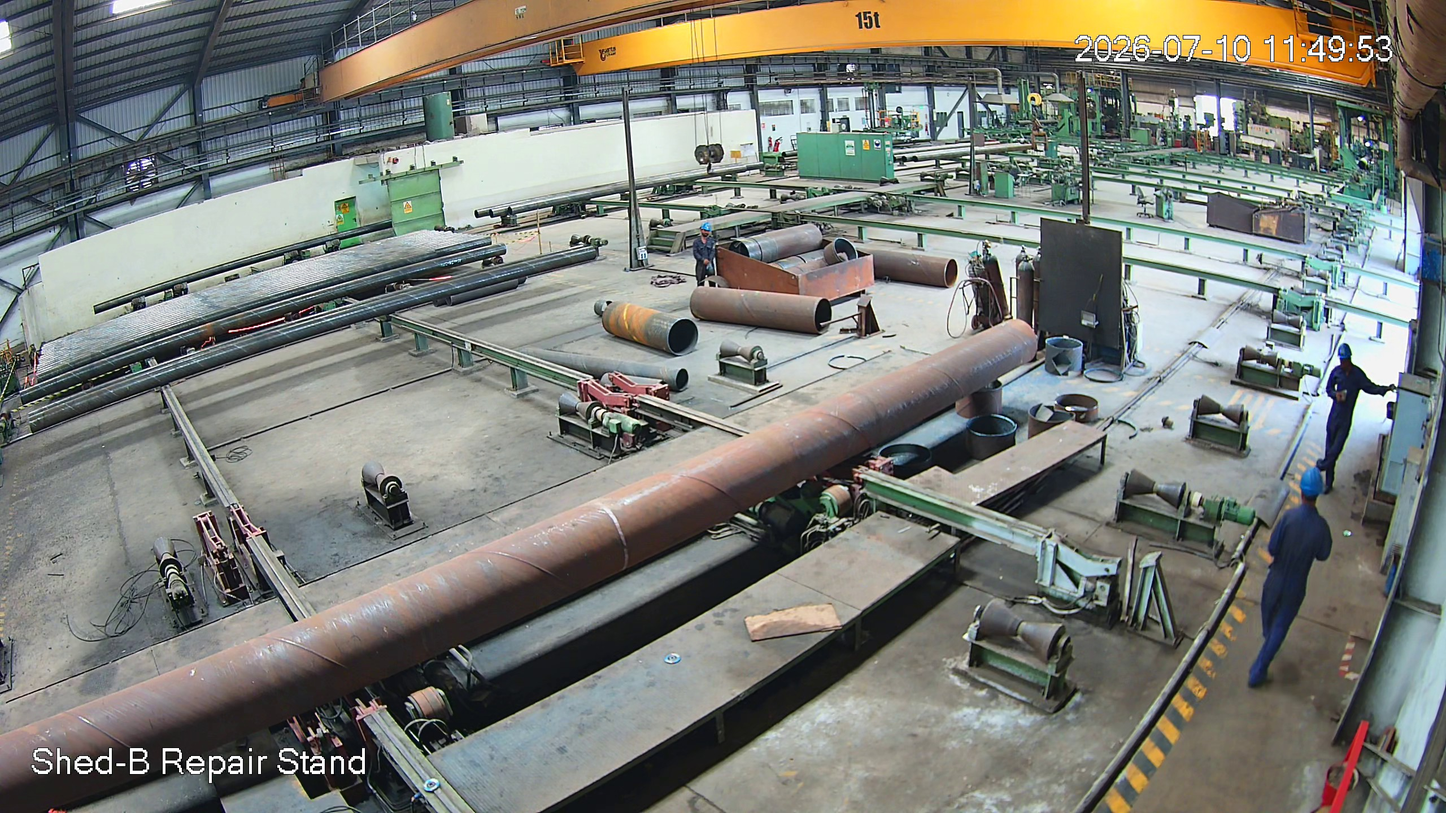Helmet: (1291, 463, 1329, 522), (1333, 336, 1357, 380), (698, 220, 715, 250)
Person: (1237, 467, 1345, 695), (1321, 338, 1374, 501), (689, 222, 720, 286)
